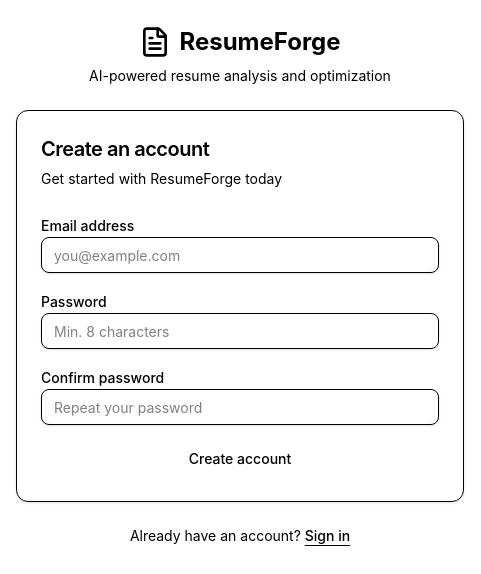
it: Register page › shows error when passwords do not match
This screenshot has width=481, height=574.
Type "test@example.com" into the field labelled "Email address" at (240, 255), box [41,237,439,273]
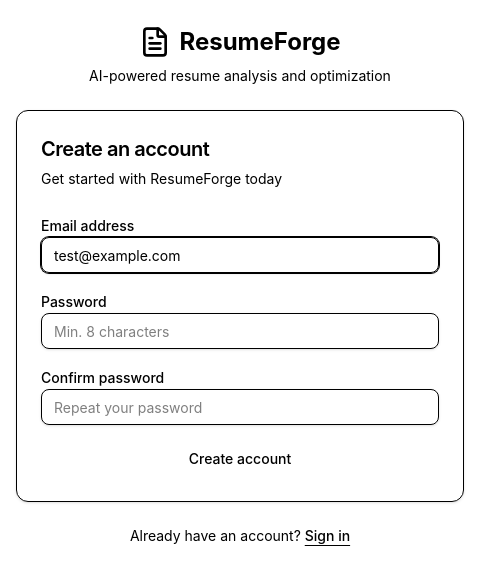
Type "password123" into the password field labelled "Password" at (240, 331), box [41,313,439,349]
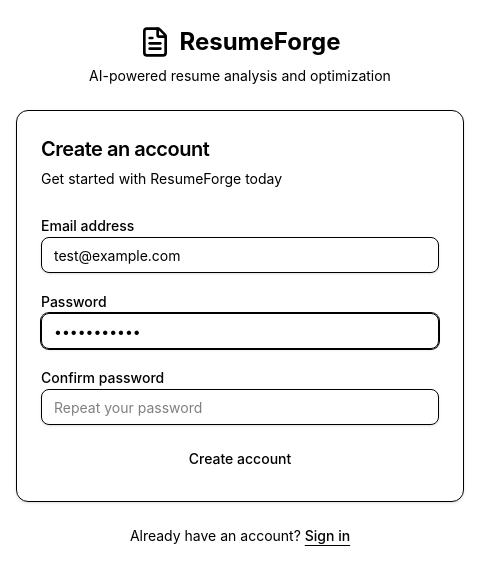
Type "different123" into the password field labelled "Confirm password" at (240, 407), box [41,389,439,425]
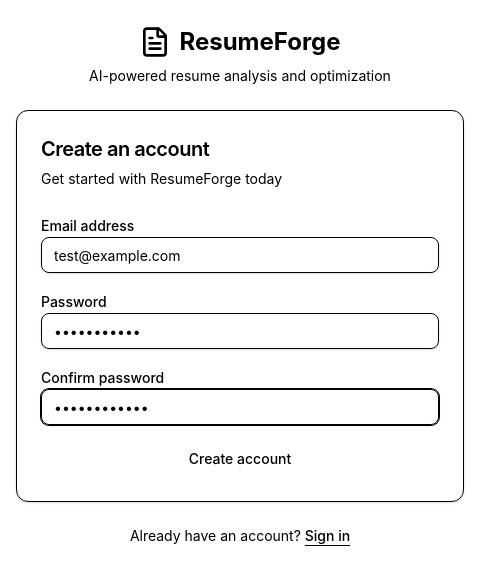
Click the button "Create account" at (240, 459), box [41,441,439,477]
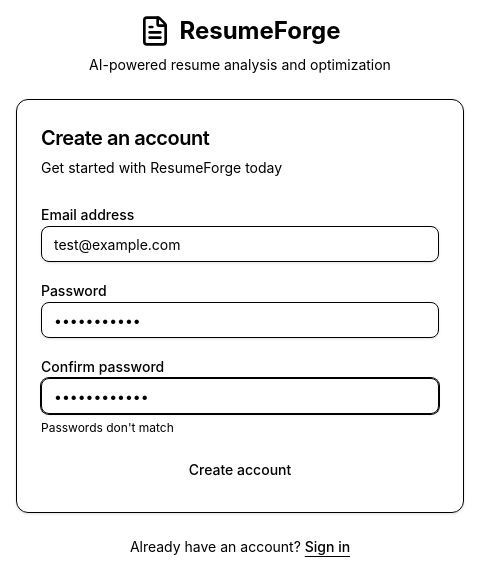
Now the text "Passwords don't match" is shown, box [41,420,174,435]
